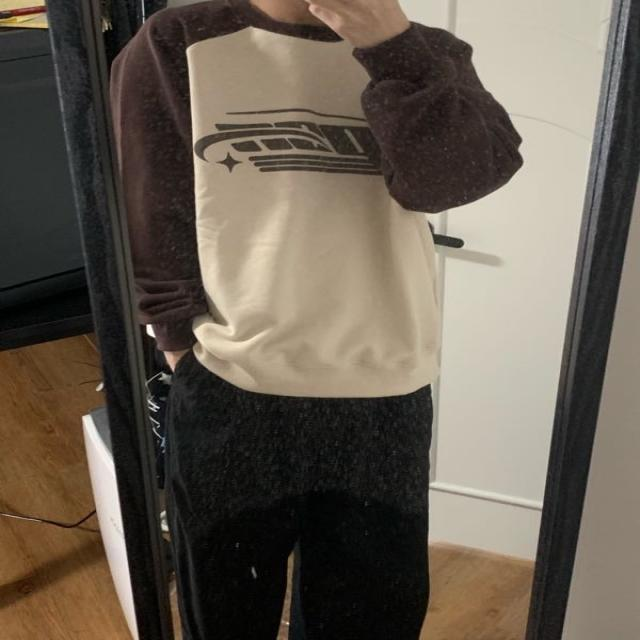mtm: (111, 6, 523, 404)
slacks: (165, 346, 432, 640)
